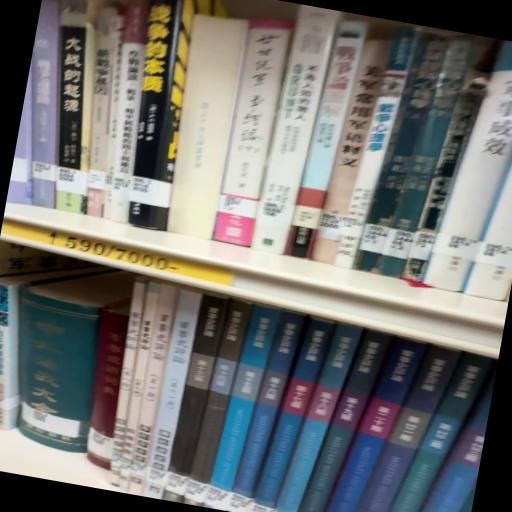backward: (161, 10, 255, 242)
book: (250, 8, 337, 260), (20, 1, 122, 214), (213, 15, 297, 251), (319, 332, 420, 512), (169, 297, 229, 480), (129, 283, 182, 462)
